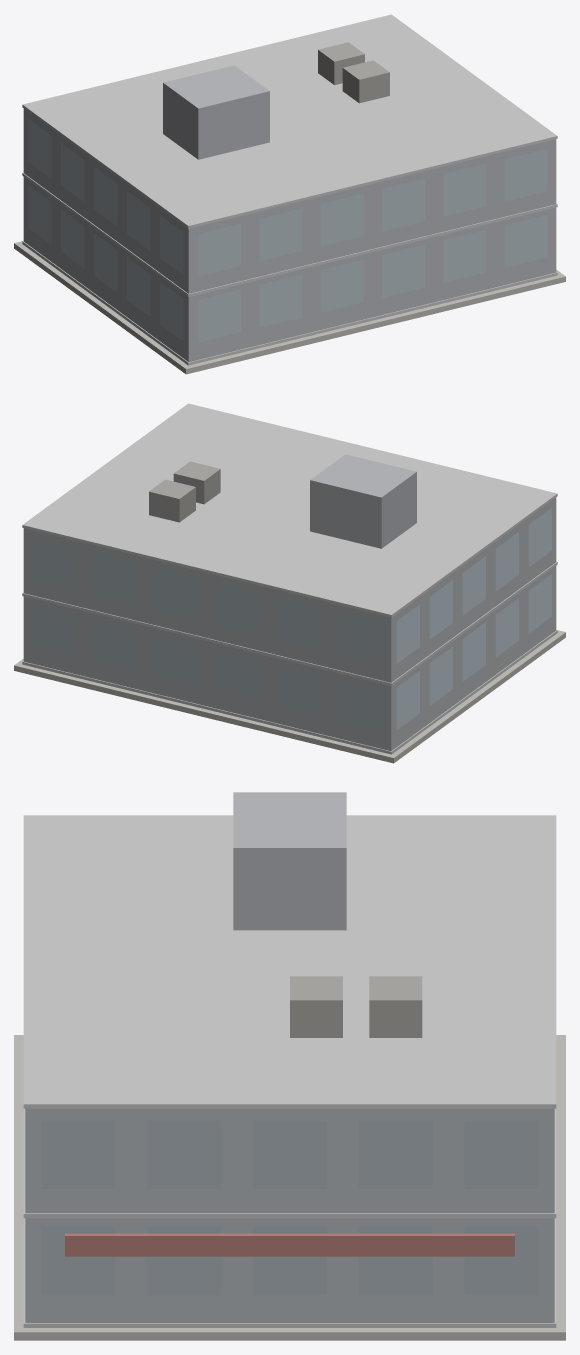
File: 14_public_services-02.glb
The picture shows the model from 3 angles, top to bottom: view 1: azimuth 30°, elevation 25°; view 2: azimuth 150°, elevation 25°; view 3: azimuth 270°, elevation 25°; orthographic projection. The views are drawn at different scales.
Size of the model in its own units: 18.6 by 9.18 by 14.6.
